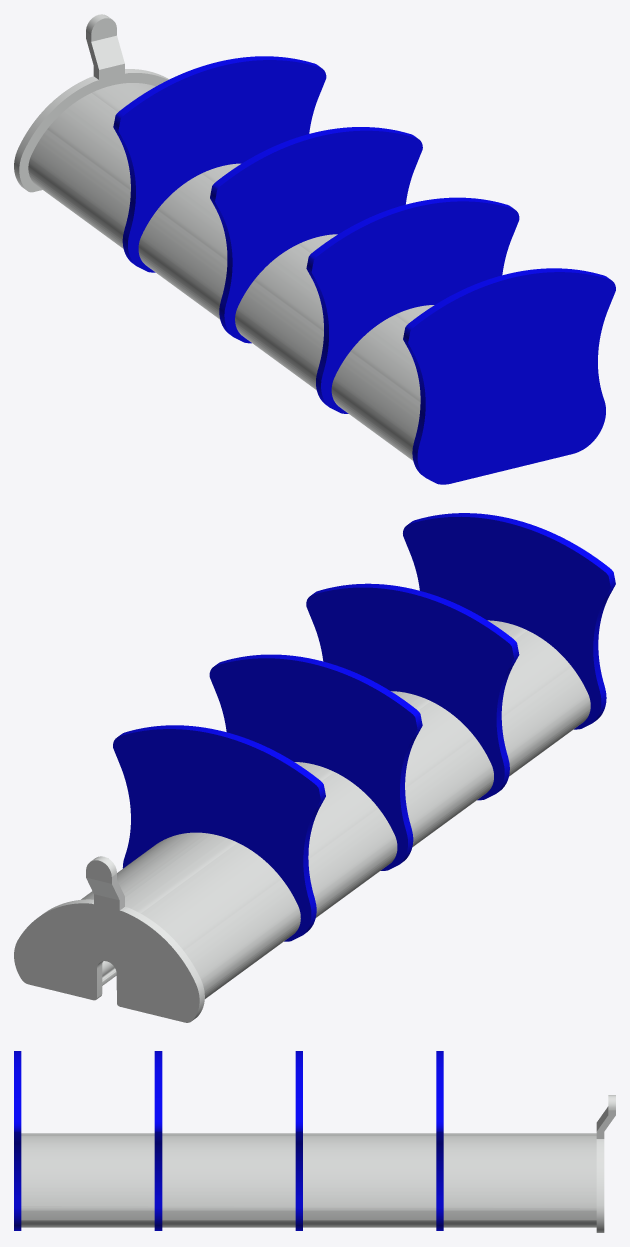
File: EZR_MDL-L224-NT.glb
The picture shows the model from 3 angles, top to bottom: view 1: azimuth 30°, elevation 25°; view 2: azimuth 150°, elevation 25°; view 3: azimuth 270°, elevation 25°; orthographic projection. The views are drawn at different scales.
Parts seen in each view (by area): view 1: Geom3D (×4), Geom3D_ (×3); view 2: Geom3D (×4), Geom3D_ (×3); view 3: Geom3D_ (×3), Geom3D (×4).
Part boxes in pixels (x1,y1,x2,y2): Geom3D (×4): (113, 56, 615, 484); Geom3D_ (×3): (14, 14, 434, 460); Geom3D (×4): (113, 513, 615, 941); Geom3D_ (×3): (14, 620, 590, 1022); Geom3D_ (×3): (21, 1095, 615, 1232); Geom3D (×4): (14, 1051, 443, 1230).
Size of the model in its own units: 0.0684 by 0.06 by 0.2352.
